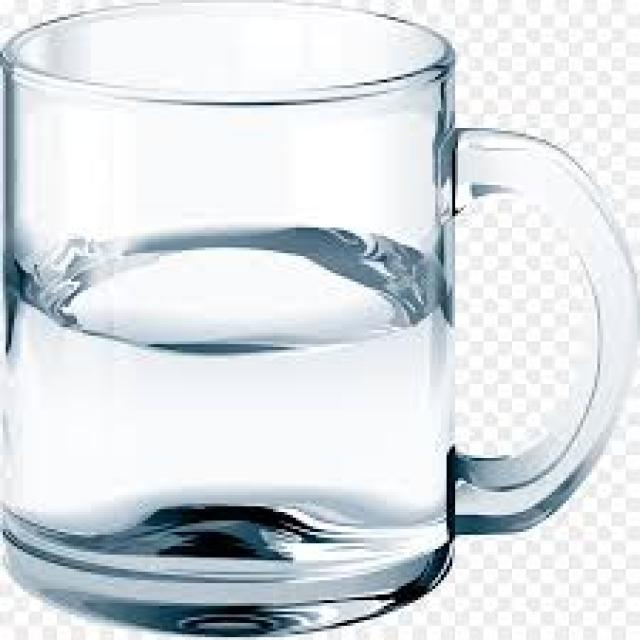glass: (0, 0, 634, 637)
